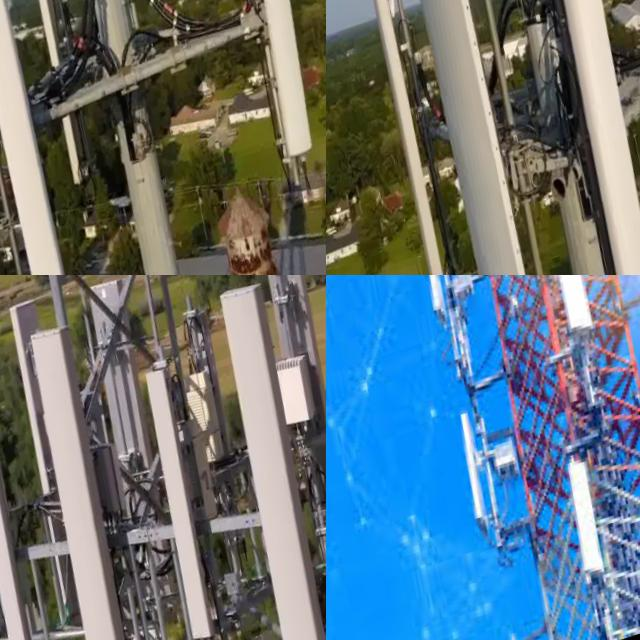GSM Antenna: (357, 0, 599, 275), (0, 303, 177, 640), (193, 275, 326, 640), (345, 0, 485, 275), (507, 0, 640, 275), (126, 351, 245, 640), (126, 354, 244, 640), (0, 0, 117, 275), (70, 275, 178, 540), (242, 275, 326, 609), (195, 0, 326, 189), (10, 0, 116, 200), (0, 297, 87, 519), (0, 389, 61, 640), (558, 456, 622, 587), (454, 410, 512, 550), (547, 275, 608, 353), (69, 0, 132, 42), (419, 275, 462, 334)
